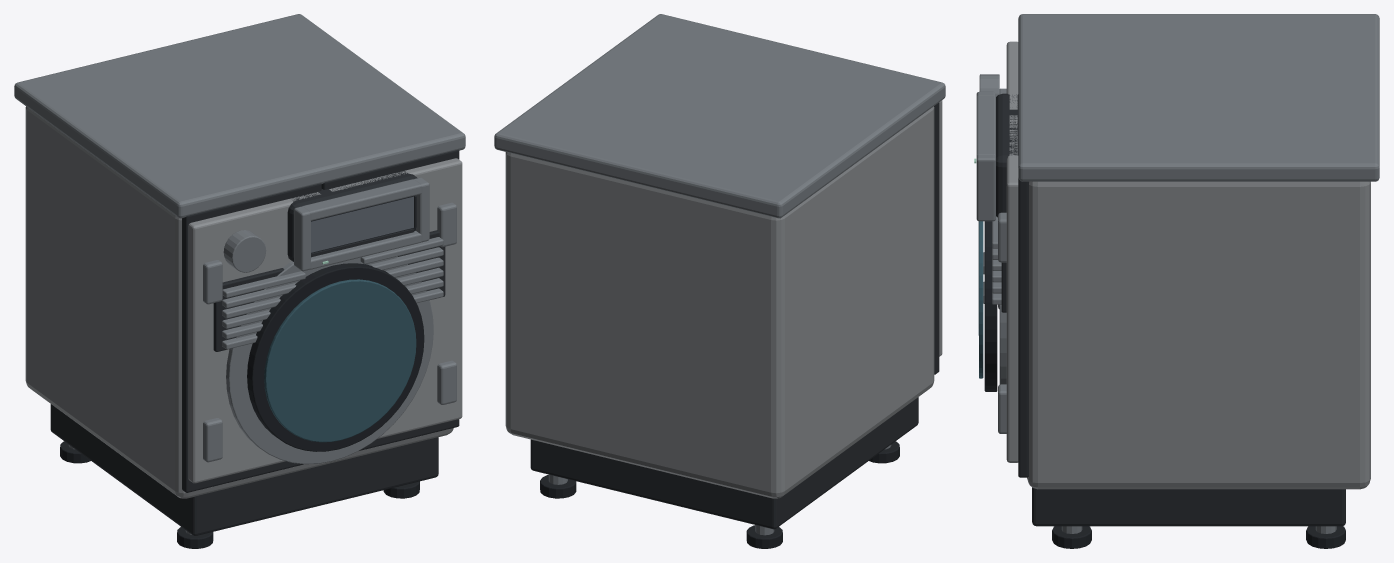
The model's file is BL_LaundryMachine.fbx.
3 renders of one model, left to right at view 1: azimuth 30°, elevation 25°; view 2: azimuth 150°, elevation 25°; view 3: azimuth 270°, elevation 25°, orthographic. The views are drawn at different scales.
Visible parts, largest first — view 1: BL_LaundryMachine_LOD0; view 2: BL_LaundryMachine_LOD0; view 3: BL_LaundryMachine_LOD0.
Boxes of the visible parts, box(x1,y1,x2,y2) form: BL_LaundryMachine_LOD0: box(14, 14, 465, 548); BL_LaundryMachine_LOD0: box(494, 14, 945, 548); BL_LaundryMachine_LOD0: box(974, 14, 1379, 548).
Size of what is drawn, in the model's own units: 72.5 by 88 by 81.35.
